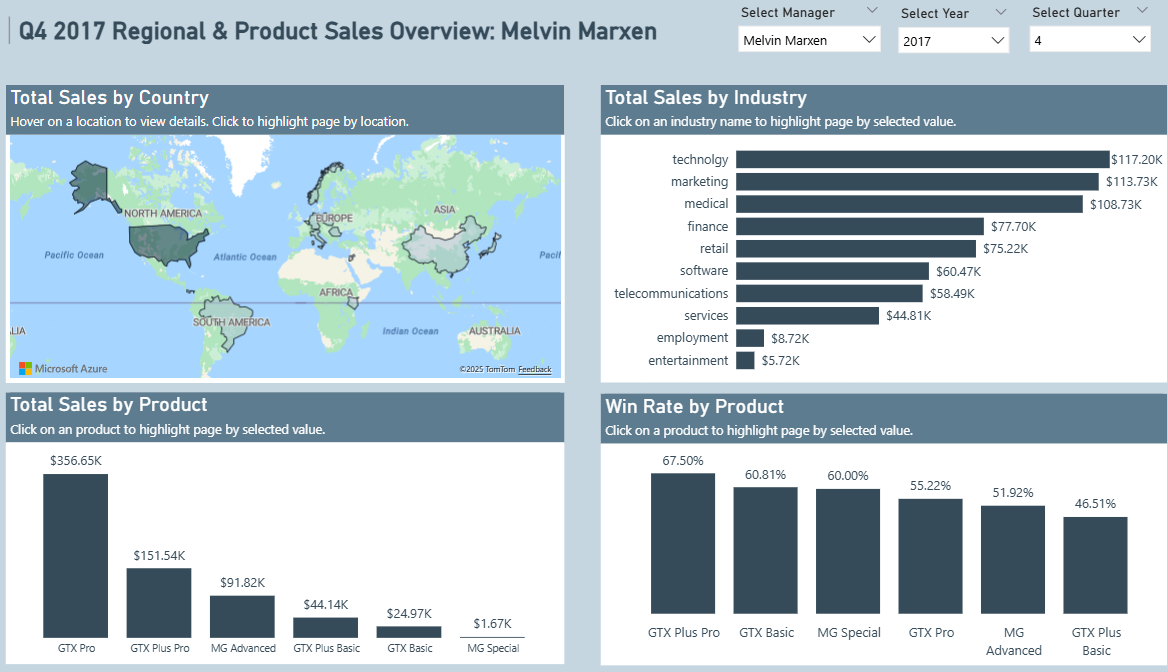

The dashboard page shown, as its layout file describes it:
{"tool":"powerbi","page":{"name":"Regional & Product Sales Analysis","canvas":[1350,800],"ordinal":3},"visuals":[{"type":"slicer","fields":{"Values":["sales_agents.manager"]},"box":[842.9,11.4,182.9,74.3],"z":0},{"type":"slicer","fields":{"Values":["calendar.year"]},"box":[1025.1,13.1,147.1,74.3],"z":1000},{"type":"slicer","fields":{"Values":["calendar.quarter"]},"box":[1175.1,11.7,158.6,75.7],"z":2000},{"type":"azureMap","title":"Total Sales by Country","fields":{"Category":["accounts.office_location"]},"box":[15.7,108.6,638.6,340],"z":3000},{"type":"clusteredBarChart","title":"Total Sales by Industry","fields":{"Category":["accounts.sector"],"Y":["sales_pipeline.close_value"]},"box":[695.7,108.6,647.1,340],"z":4000},{"type":"clusteredColumnChart","title":"Total Sales by Product","fields":{"Category":["products.product"],"Y":["sales_pipeline.close_value"]},"box":[15.7,460,638.6,310],"z":5000},{"type":"clusteredColumnChart","title":"Win Rate by Product","fields":{"Category":["products.product"],"Y":["sales_pipeline.Win Rate"]},"box":[695.7,461.4,647.1,310],"z":6000},{"type":"multiRowCard","fields":{"Values":["sales_pipeline.title_RP"]},"box":[14.3,25.7,762.9,50],"z":7001}]}

Visuals, with their boxes in screenshot pixels (x1, y1, x2, y2), scaled from the page's 1350x800 canvas onto the 1168x672 screenshot:
slicer - sales_agents.manager: region(729, 10, 888, 72)
slicer - calendar.year: region(887, 11, 1014, 73)
slicer - calendar.quarter: region(1017, 10, 1154, 73)
"Total Sales by Country" azureMap: region(14, 91, 566, 377)
"Total Sales by Industry" clusteredBarChart: region(602, 91, 1162, 377)
"Total Sales by Product" clusteredColumnChart: region(14, 386, 566, 647)
"Win Rate by Product" clusteredColumnChart: region(602, 388, 1162, 648)
multiRowCard - sales_pipeline.title_RP: region(12, 22, 672, 64)
